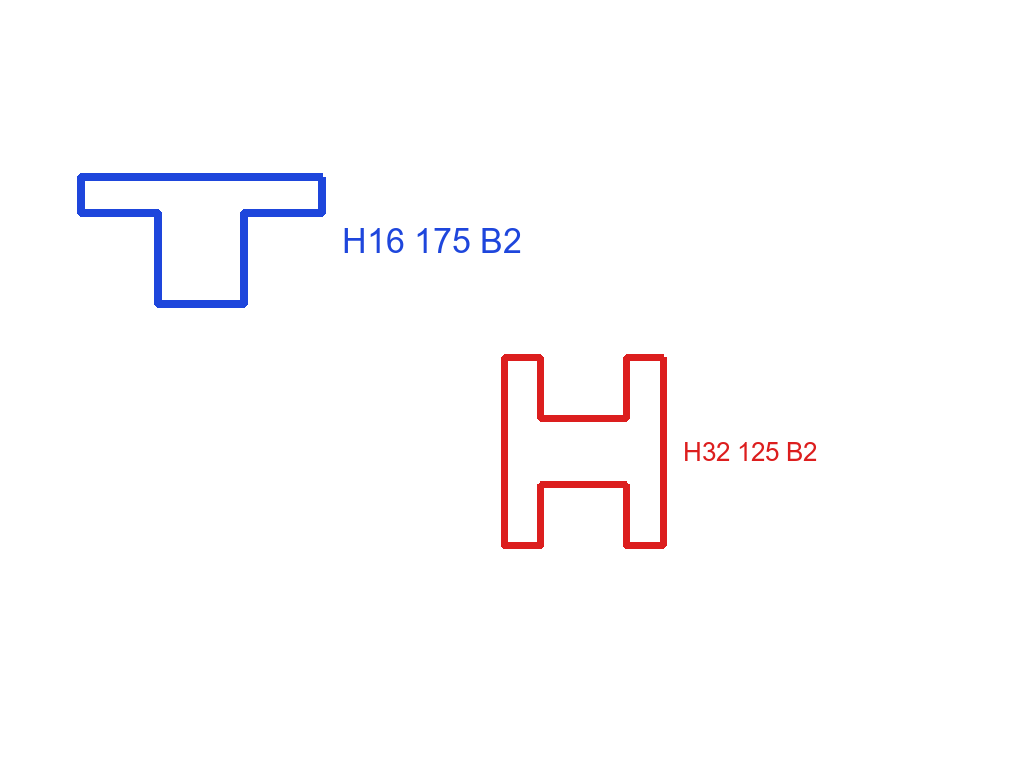shape: (74, 171, 328, 310), (499, 352, 669, 551)
text: (340, 226, 524, 255), (681, 440, 819, 463)
